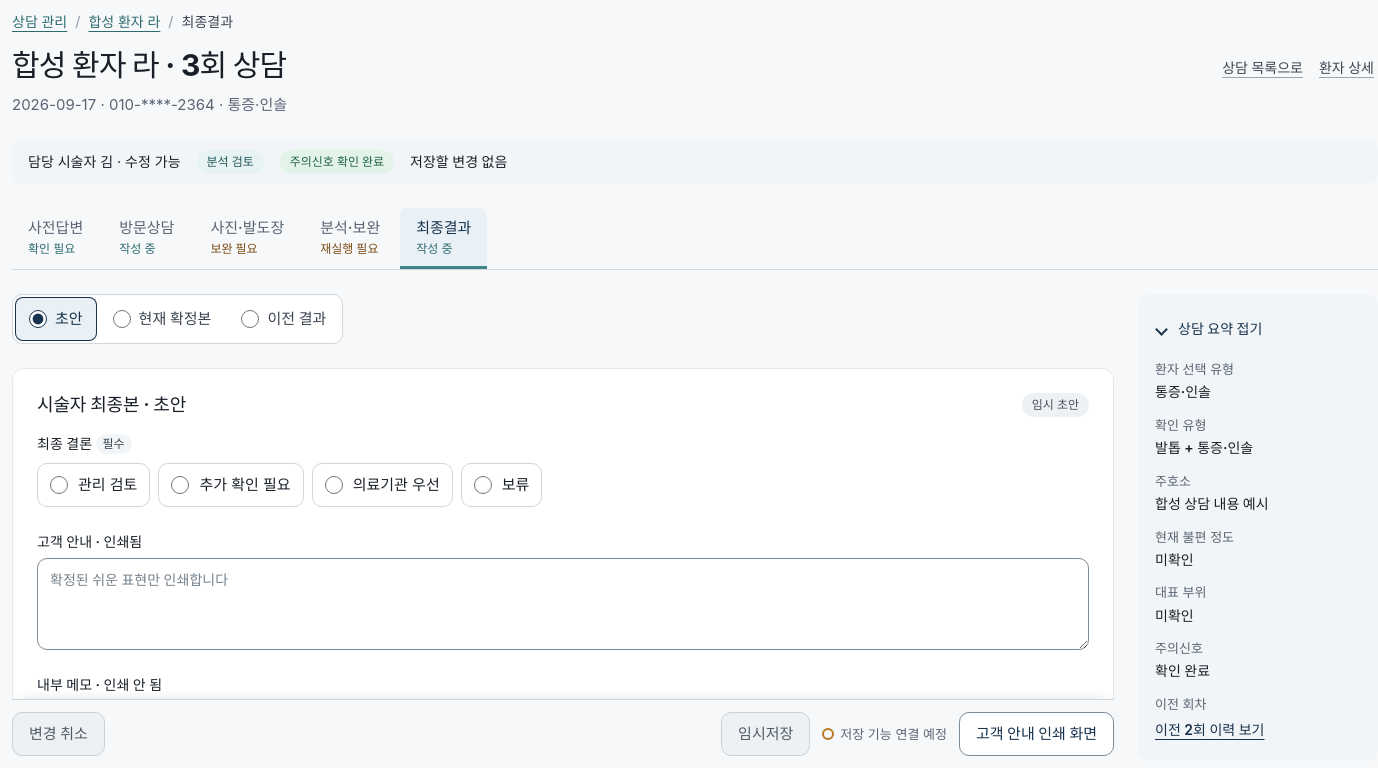
Test case: consultation work screen › shows the fields each conclusion needs and separates follow-up date from undecided
This screenshot has width=1378, height=768.
Click the radio button named "result-conclusion" at (334, 485), box [325,476,343,494]
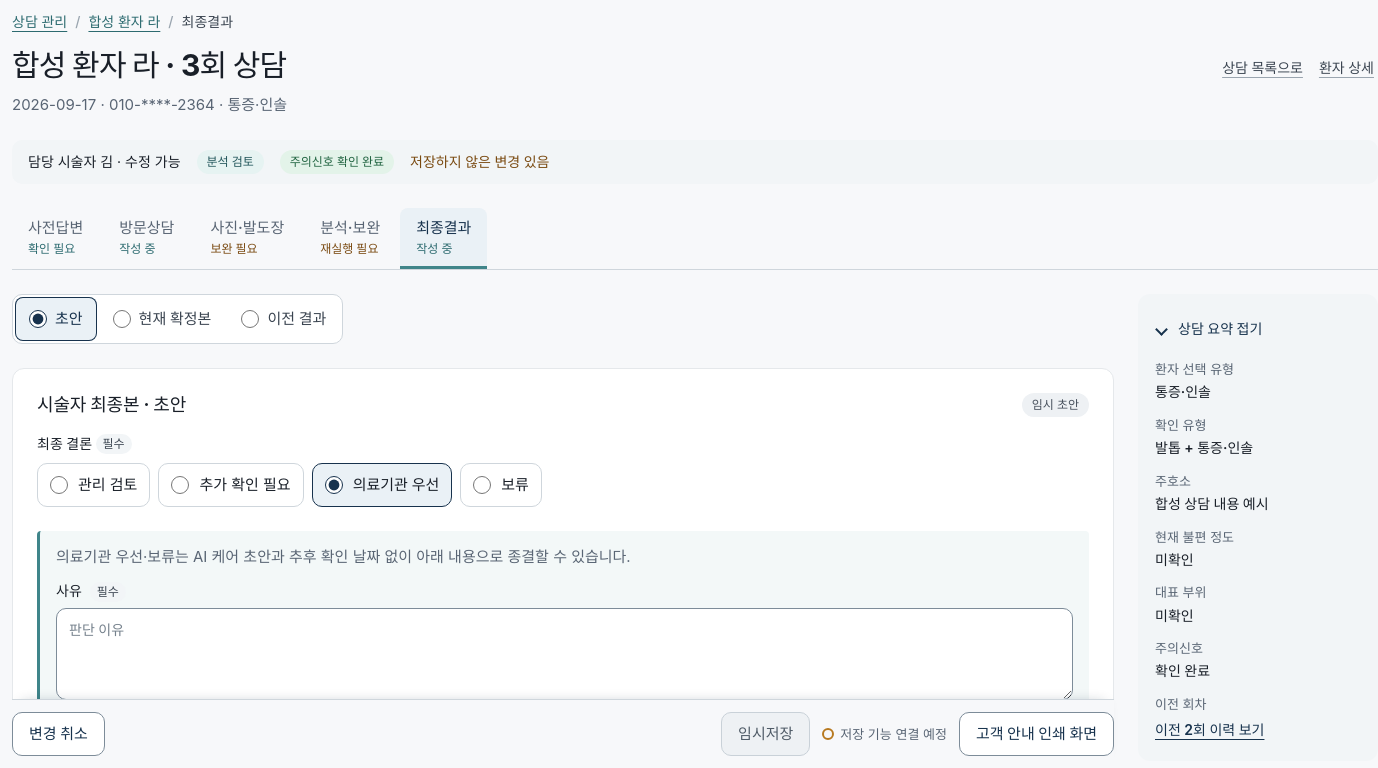
Click the radio button named "result-conclusion" at (59, 485), box [50,476,68,494]
(page scrolled)
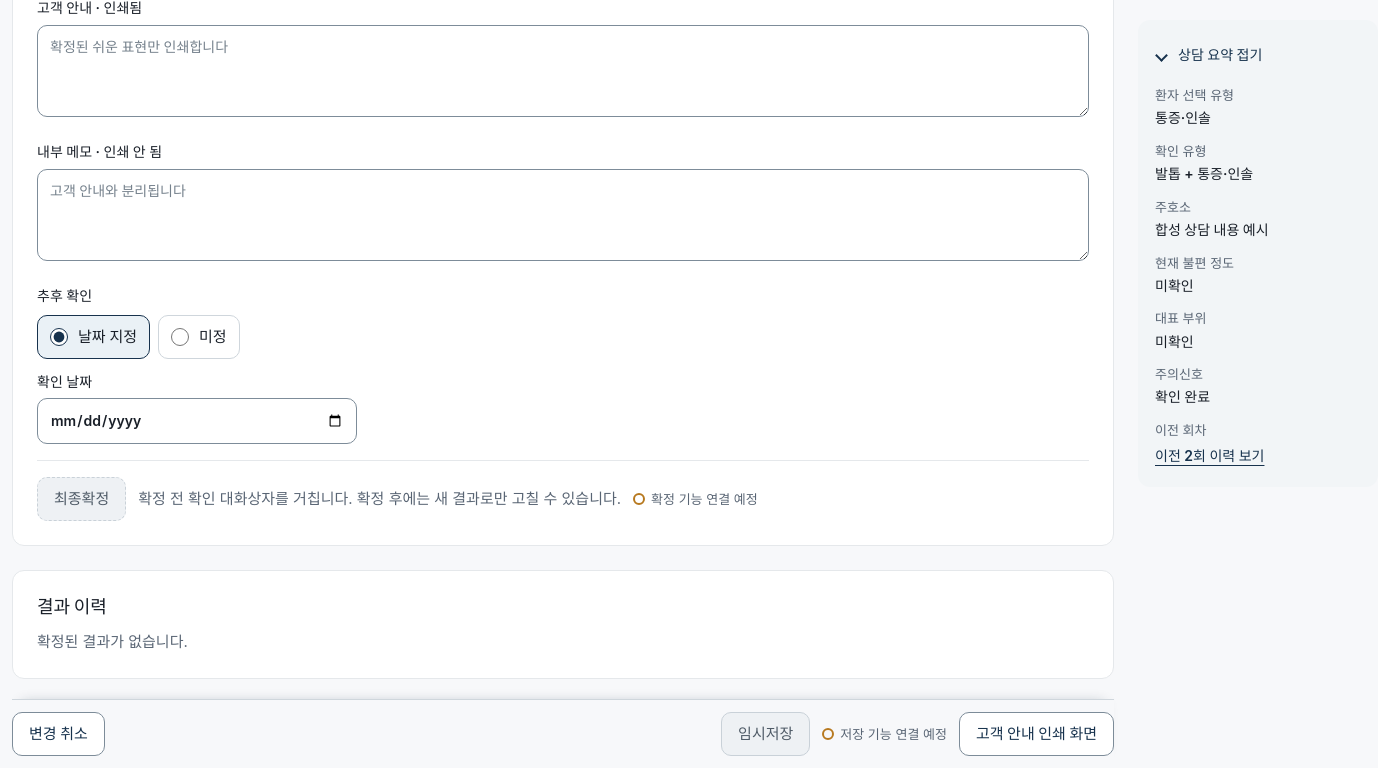
Expected: the date field labelled "확인 날짜" is shown, [37,398,357,444]
Click the radio button named "follow-up" at (180, 336), box [171,328,189,346]
(page scrolled)
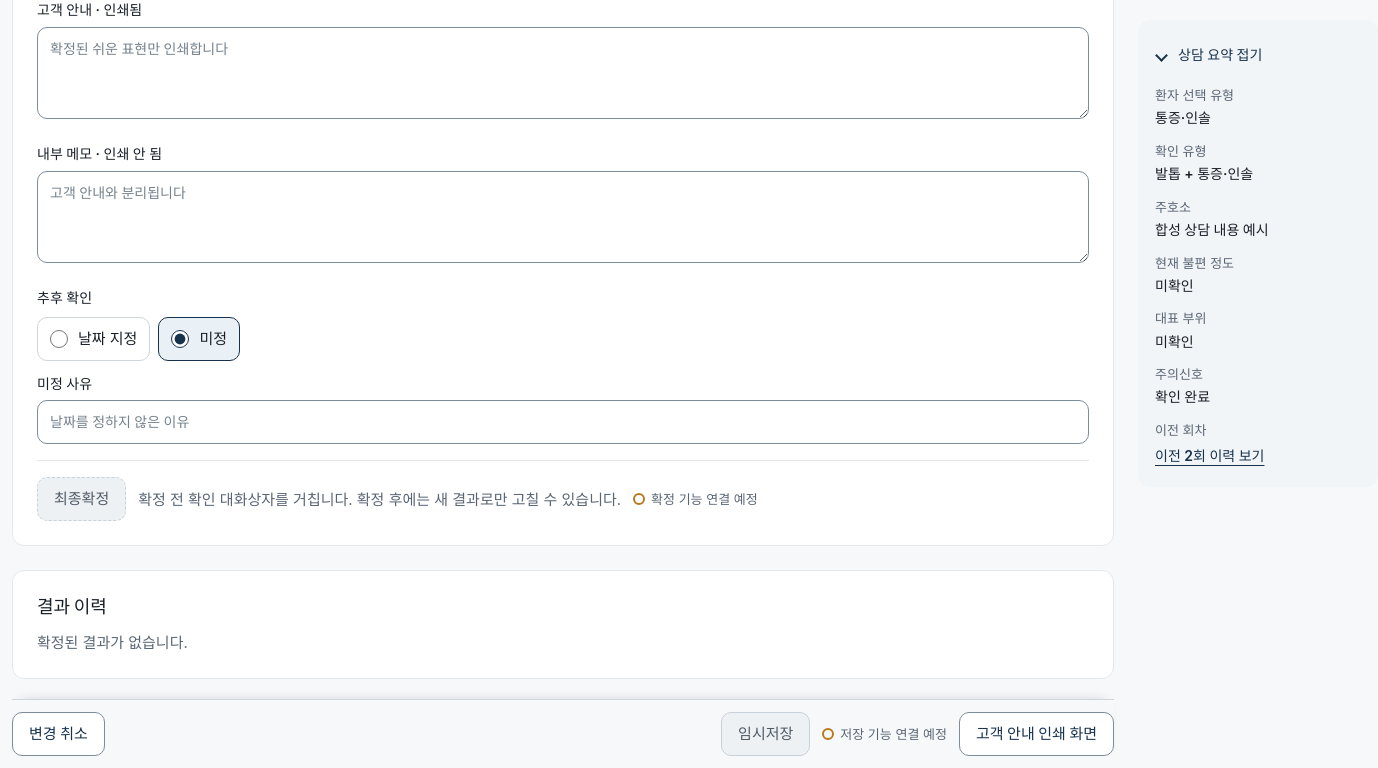
Result: the text "미정 사유" is shown at [37,372,1089,444]
